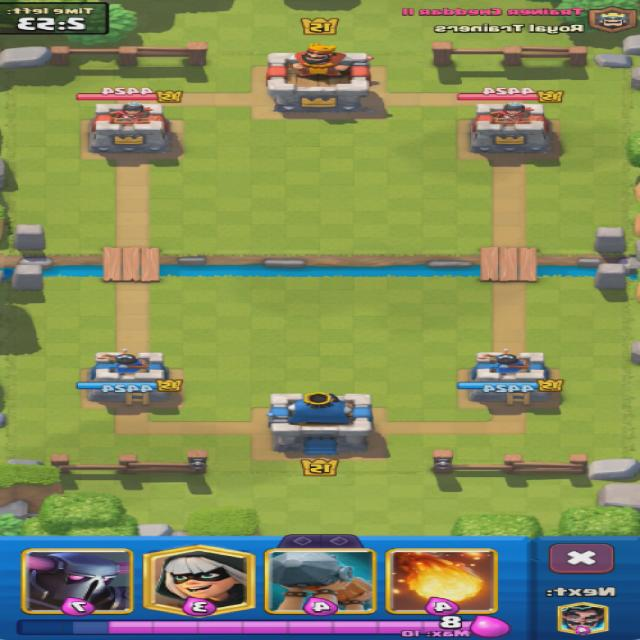Enemy-KingTower: (268, 44, 370, 114)
Enemy-PrincessTower: (471, 102, 552, 154), (90, 103, 170, 154)
